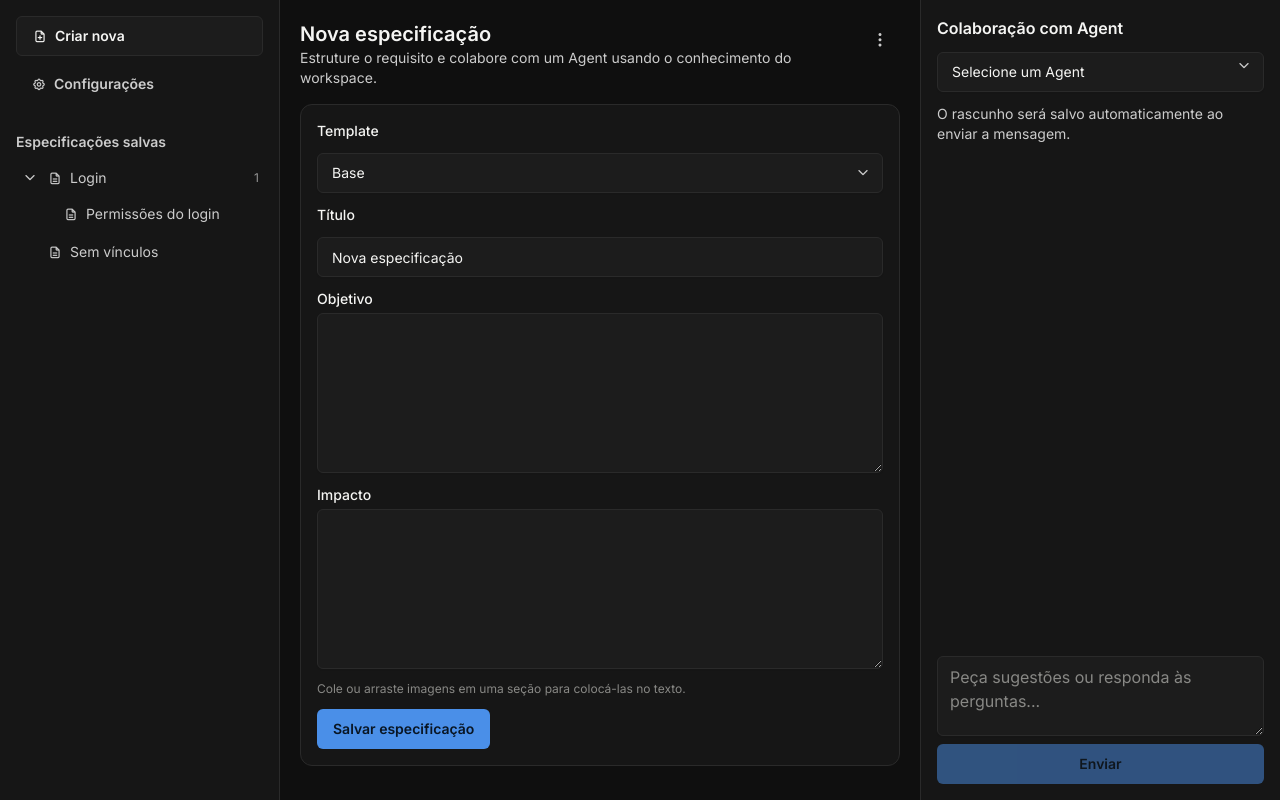
it: SpecView › deletes the selected template after confirmation
Expected: the heading "Nova especificação" is shown, [300,22,491,46]
Click the button "Configurações": (140, 84) [16,64,263,104]
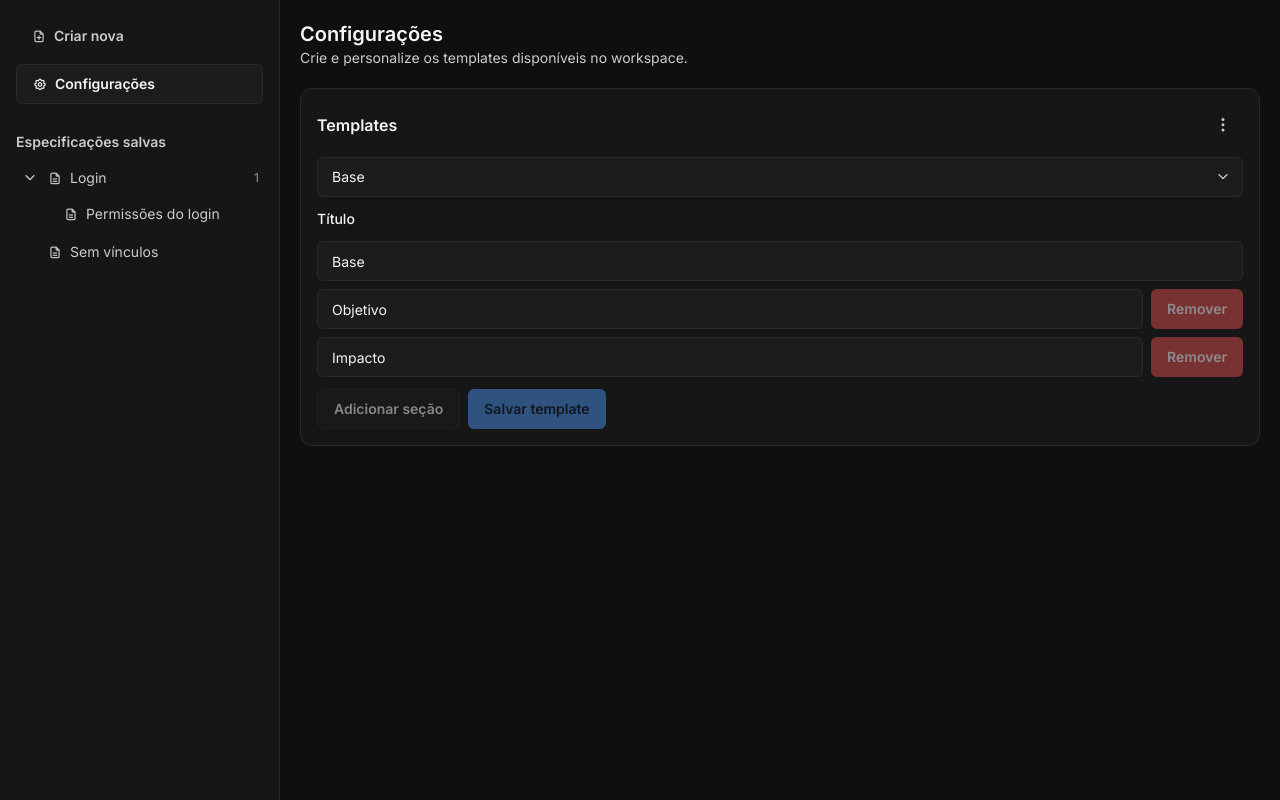
Click the button named "Ações": (1223, 125) [1203,105,1243,145]
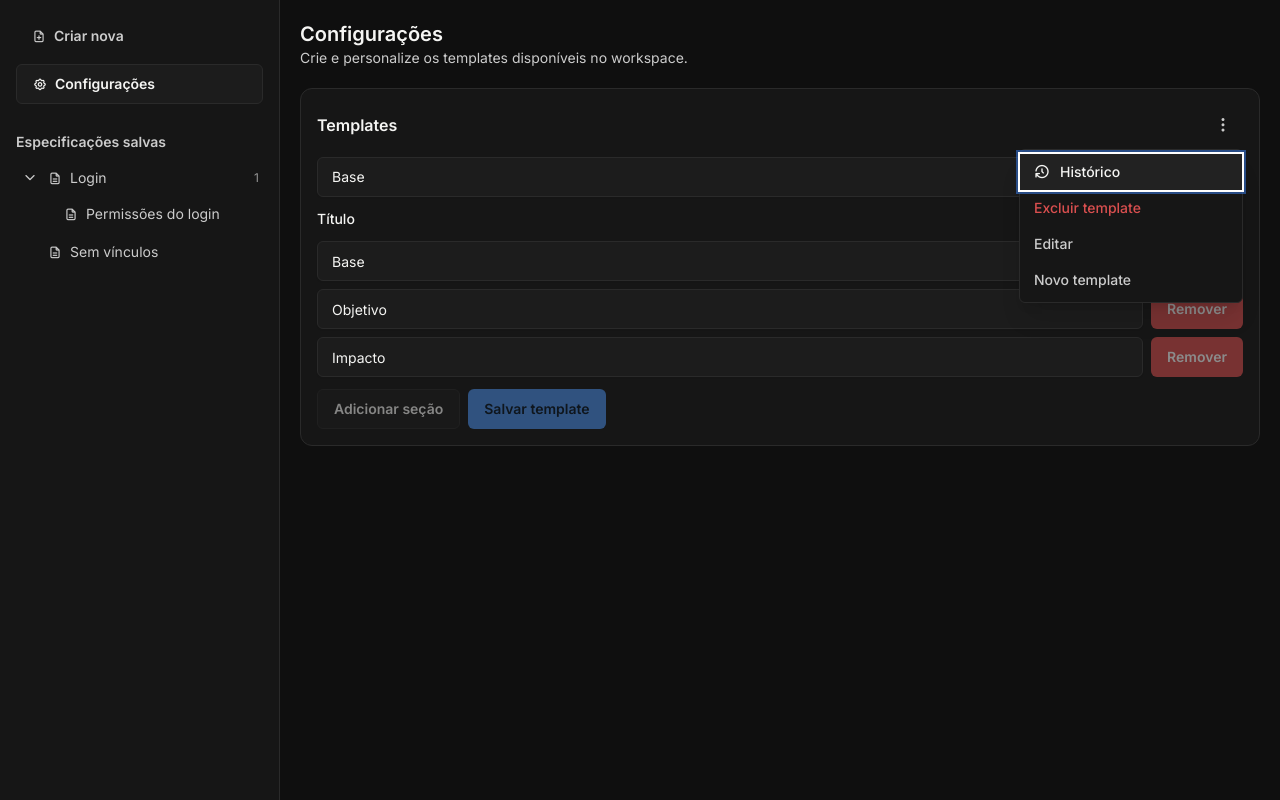
Click the button "Excluir template": (1131, 208) [1020,190,1242,226]
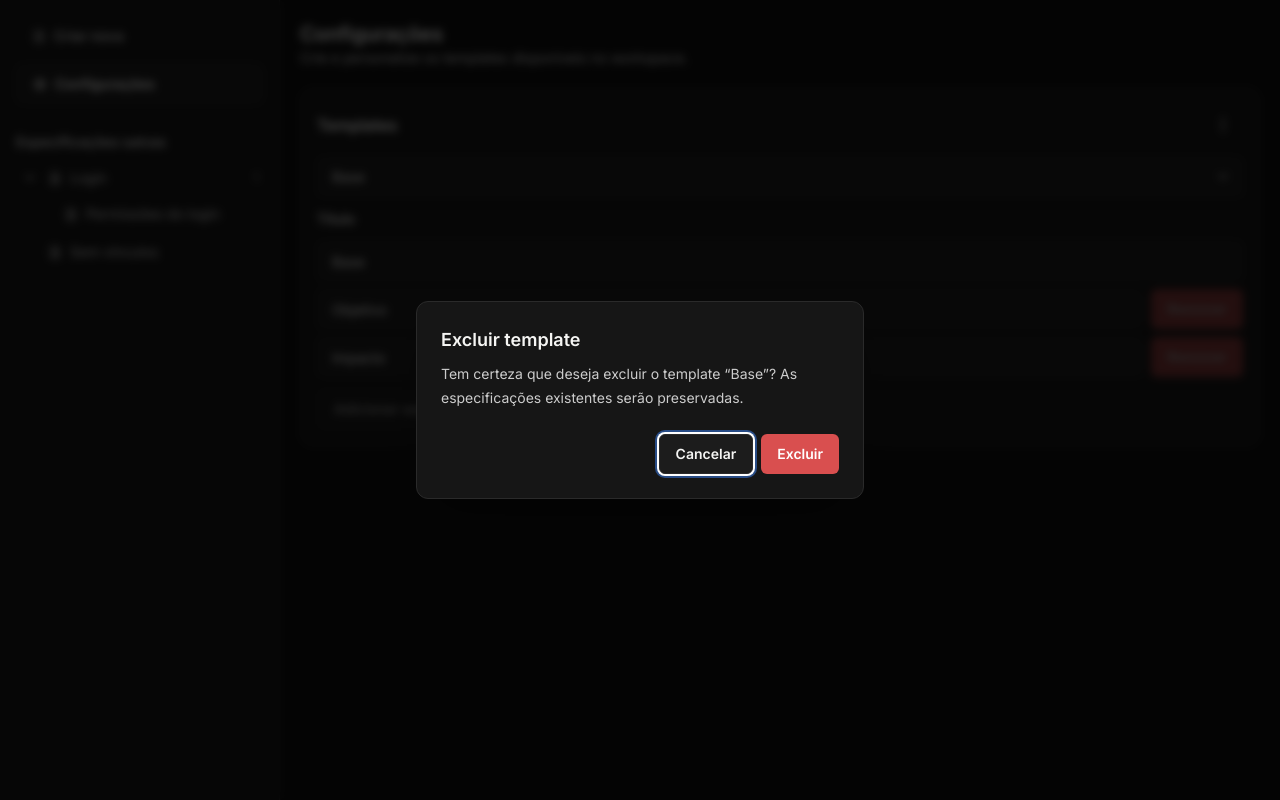
Expected: the dialog shows "Base", [441,365,797,406]
Click the button "Excluir": (800, 454) [761,434,839,474]
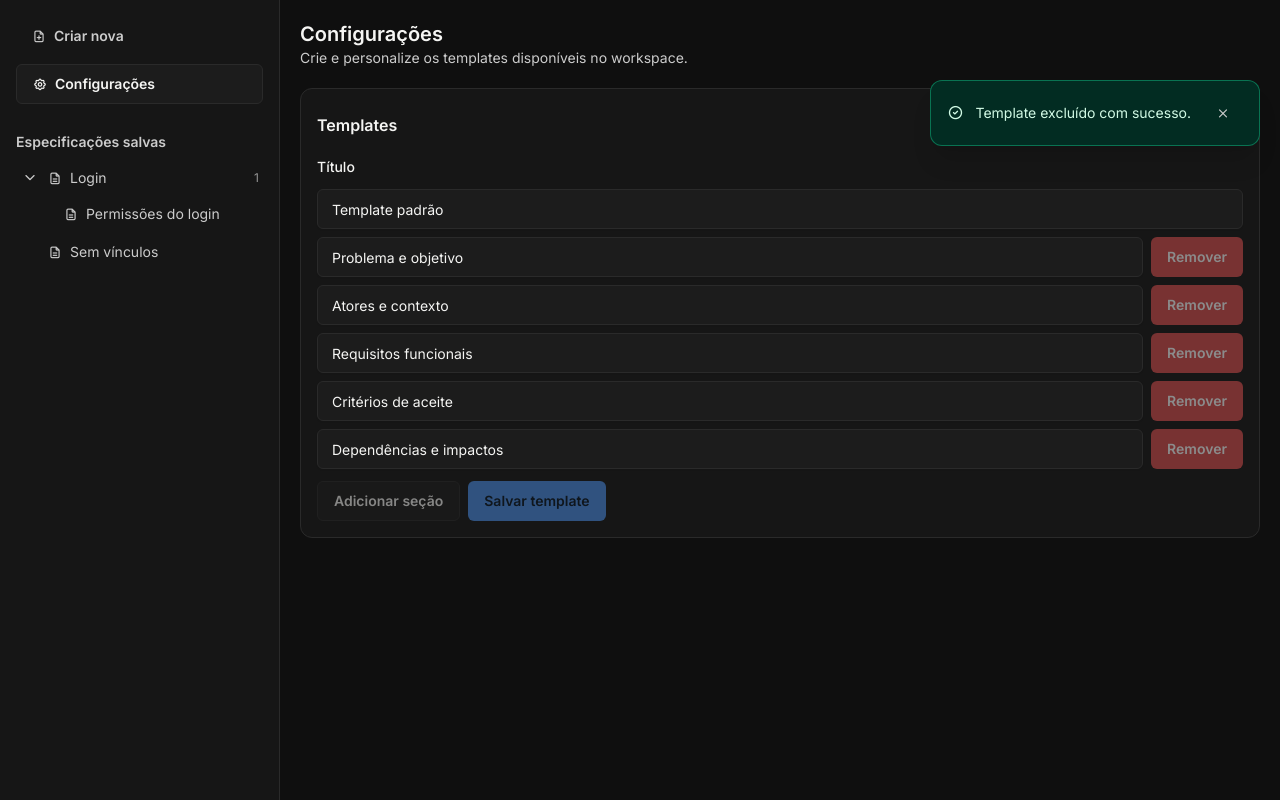
Expected: the text "Template excluído com sucesso." is shown, [976,103,1191,123]
